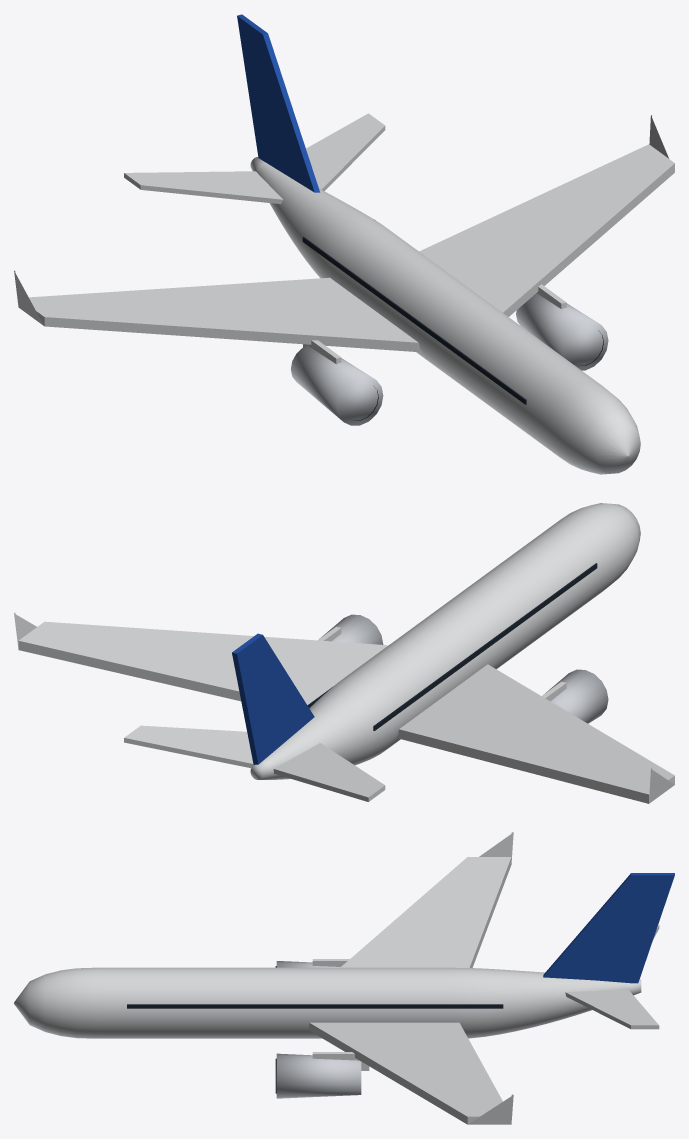
Rendered from airliner2.glb.
3 renders of one model, top to bottom at view 1: azimuth 30°, elevation 25°; view 2: azimuth 150°, elevation 25°; view 3: azimuth 270°, elevation 25°, orthographic. The views are drawn at different scales.
Visible parts, largest first — view 1: fuselage, wing, wing.001, fin, engine, engine.001, stab, stab.001, windows; view 2: fuselage, wing, wing.001, fin, stab.001, stab, engine, windows, engine.001; view 3: fuselage, wing.001, wing, fin, engine.001, stab.001, windows.001.
Part boxes in pixels (bbox=[...]): fuselage: bbox=[250, 157, 640, 474]; wing: bbox=[14, 270, 421, 352]; wing.001: bbox=[419, 115, 674, 316]; fin: bbox=[237, 14, 319, 192]; engine: bbox=[290, 345, 383, 425]; engine.001: bbox=[516, 293, 608, 370]; stab: bbox=[124, 171, 283, 204]; stab.001: bbox=[306, 113, 385, 191]; windows: bbox=[302, 236, 526, 404]; fuselage: bbox=[250, 503, 640, 779]; wing: bbox=[396, 664, 674, 803]; wing.001: bbox=[14, 612, 388, 704]; fin: bbox=[232, 633, 314, 764]; stab.001: bbox=[124, 725, 253, 768]; stab: bbox=[273, 743, 385, 801]; engine: bbox=[545, 669, 608, 723]; windows: bbox=[373, 563, 597, 730]; engine.001: bbox=[319, 614, 383, 644]; fuselage: bbox=[14, 967, 641, 1038]; wing.001: bbox=[308, 1022, 513, 1124]; wing: bbox=[340, 832, 513, 967]; fin: bbox=[543, 873, 674, 983]; engine.001: bbox=[276, 1053, 361, 1098]; stab.001: bbox=[565, 989, 659, 1029]; windows.001: bbox=[127, 1004, 503, 1008].
Size of the model in its own units: 9.9 by 3.12 by 10.53.
